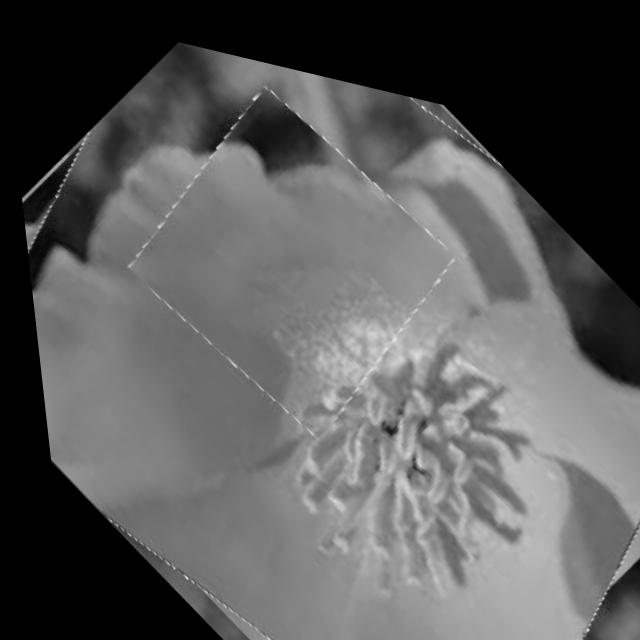Flower: (89, 32, 484, 468)
